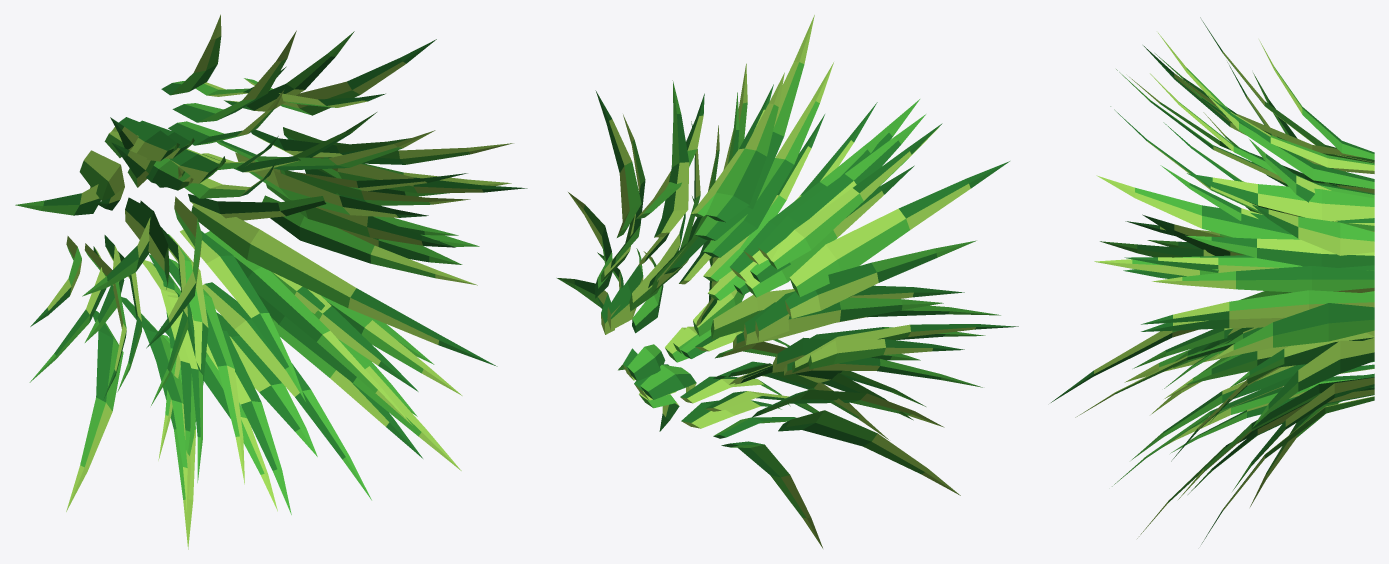
File: background_grass.obj
3 views of the same model, side by side, from view 1: azimuth 30°, elevation 25°; view 2: azimuth 150°, elevation 25°; view 3: azimuth 270°, elevation 25° (orthographic). The views are drawn at different scales.
Visible parts, largest first — view 1: Grass; view 2: Grass; view 3: Grass.
Part boxes in pixels (x1,y1,x2,y2): Grass: (15, 14, 527, 549); Grass: (557, 15, 1018, 548); Grass: (1051, 17, 1374, 544).
Bounding box in the file's own units: 1.13 × 1.22 × 0.7145.
Materials: 5 (5 with a texture image).
